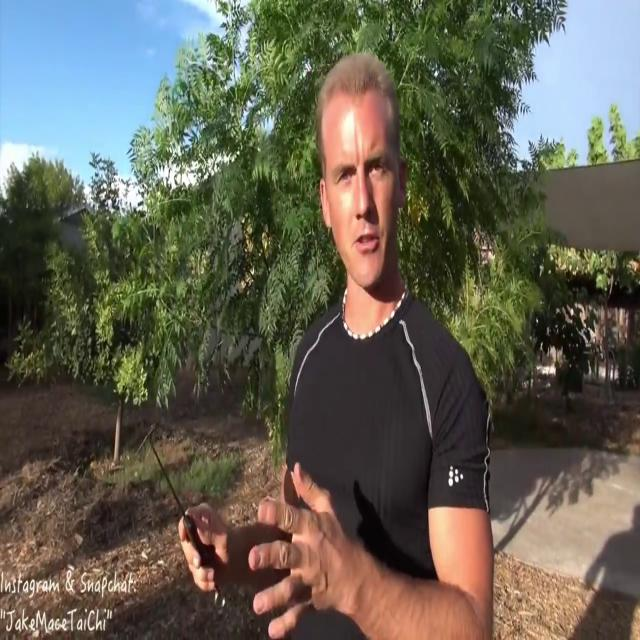knife: (136, 426, 234, 610)
